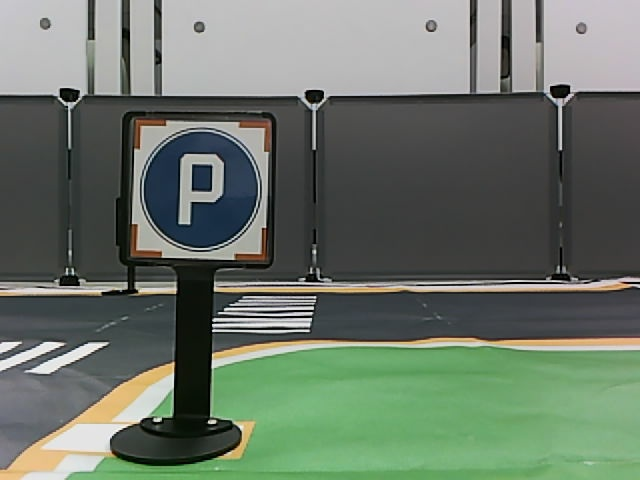crosswalk: (1, 337, 110, 376)
park: (138, 128, 261, 252)
